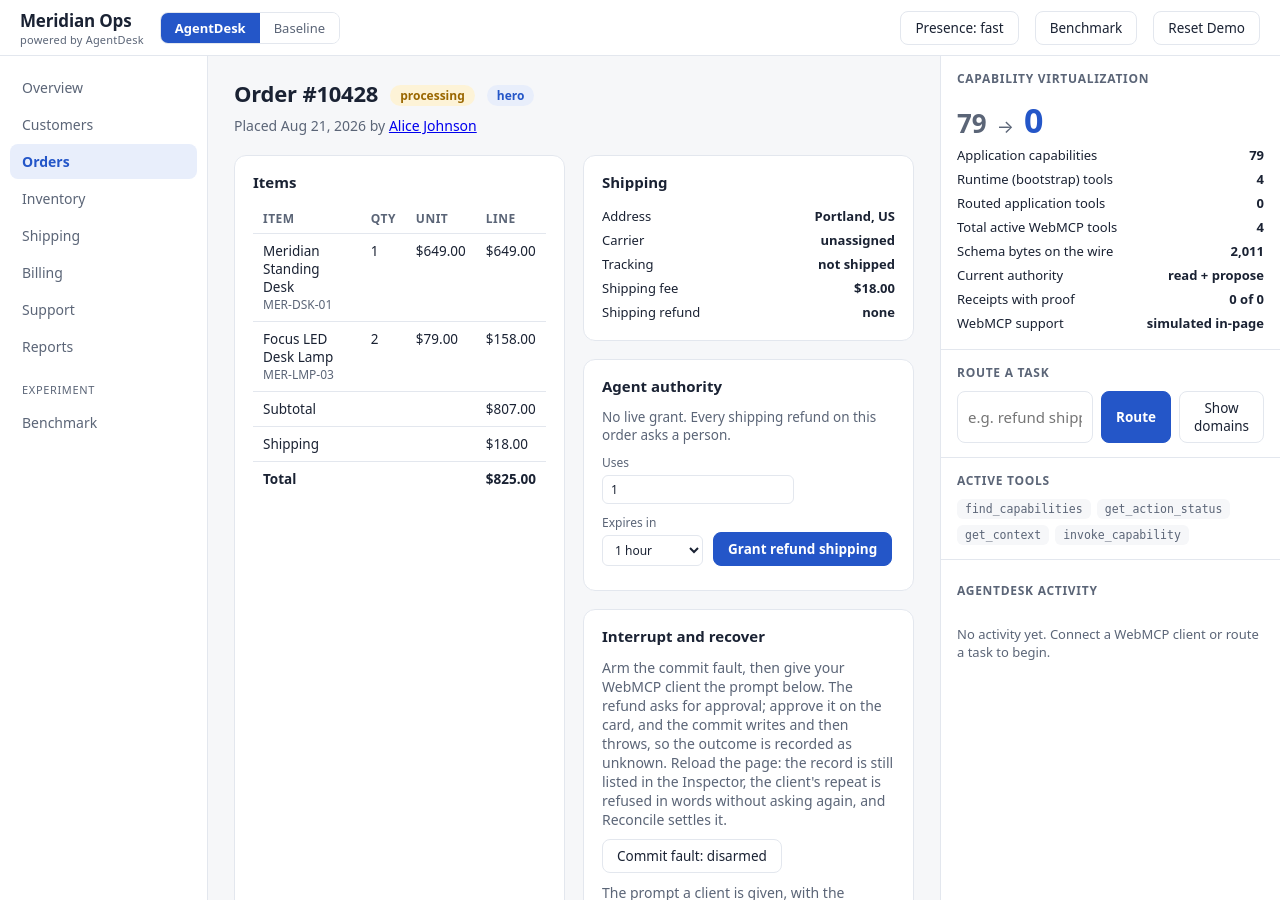
it: the durability card is the page's: it arms the fault, states the prompt, and renders what the runtime recorded › after approval, the fault, and the reload the record is listed and the client's repeat is refused without asking again
Click the button "Commit fault: disarmed".
click(692, 856)  # box left=602, top=839, right=782, bottom=873
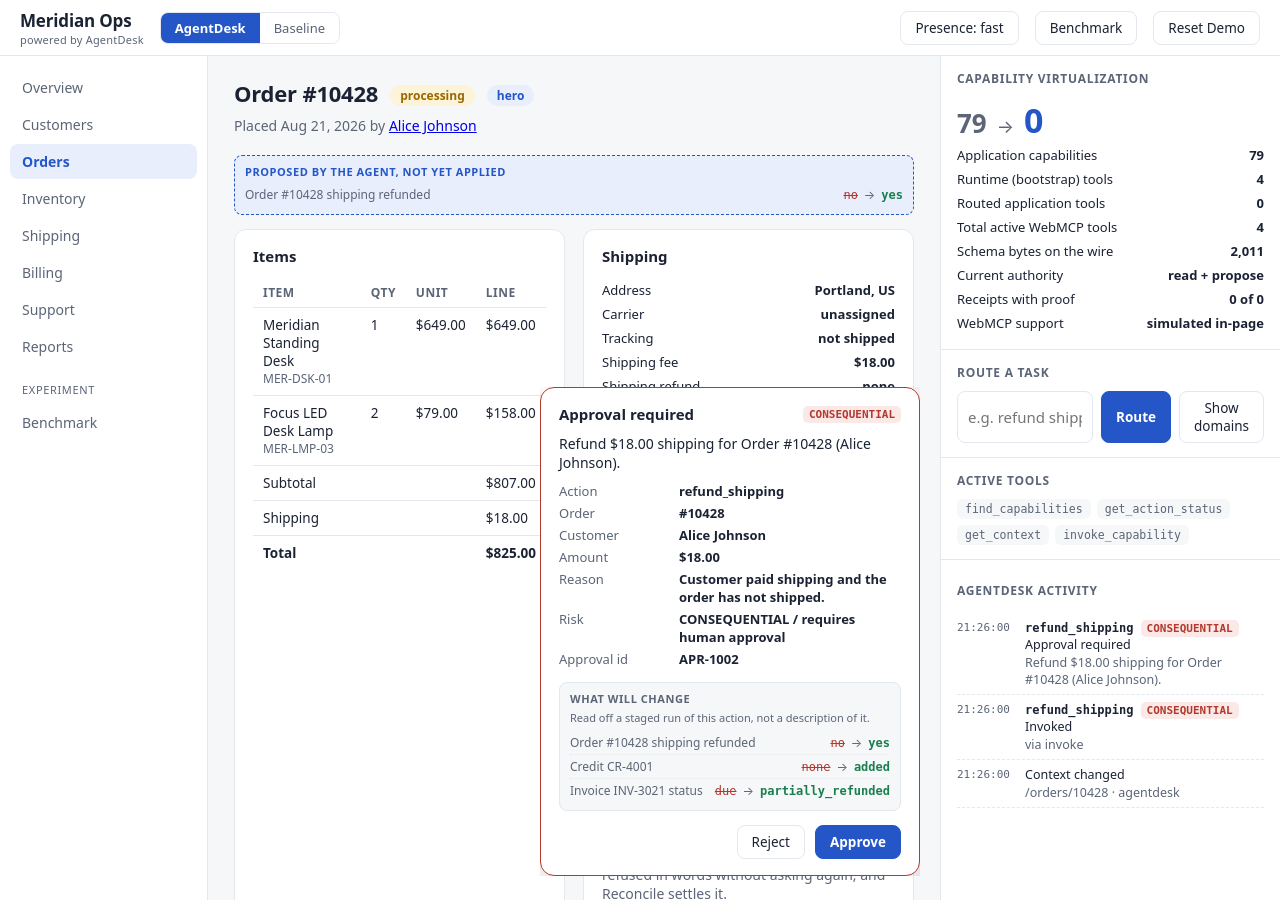
Click the button "Approve".
click(858, 842)  # box left=815, top=825, right=901, bottom=859
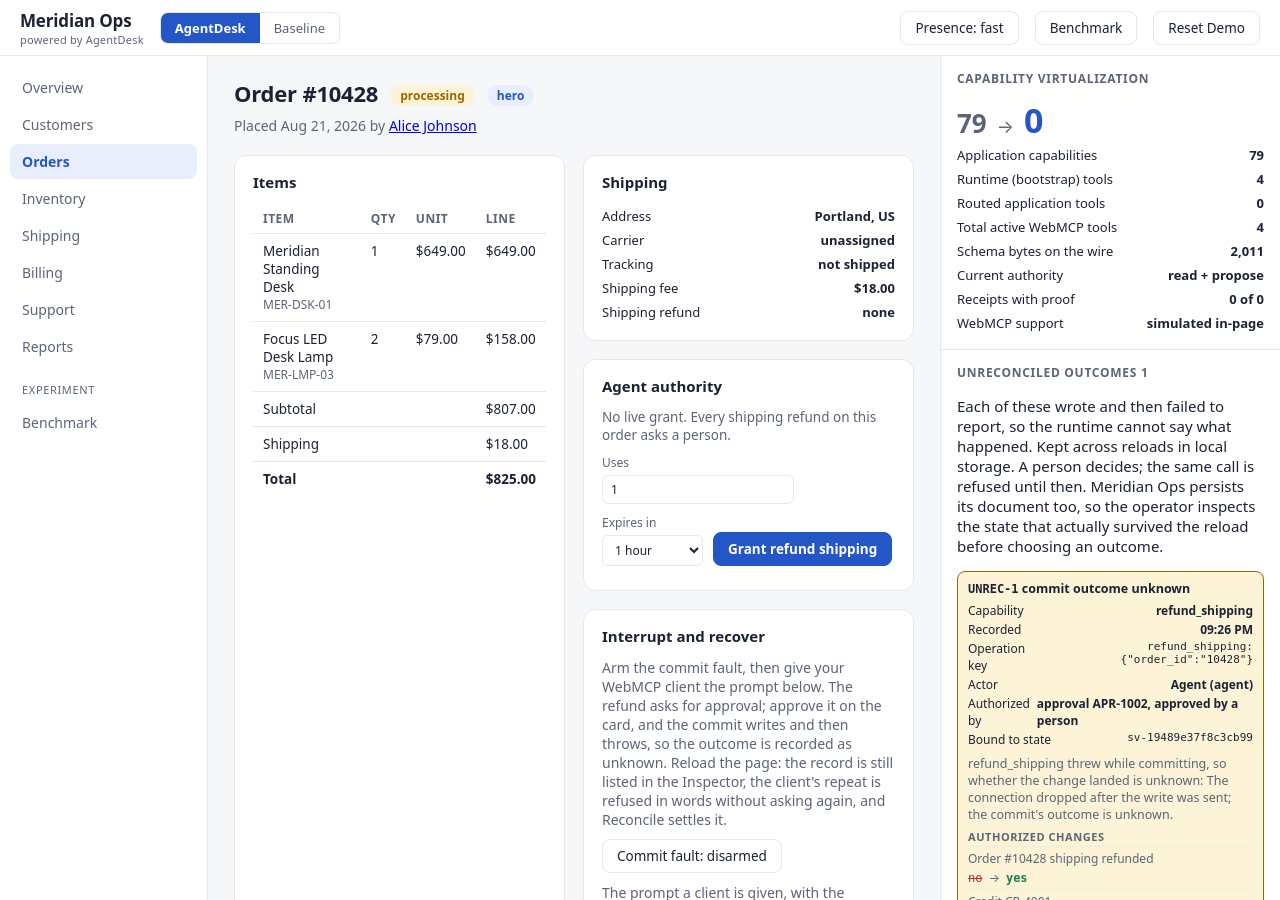
Expected: the dialog is gone
